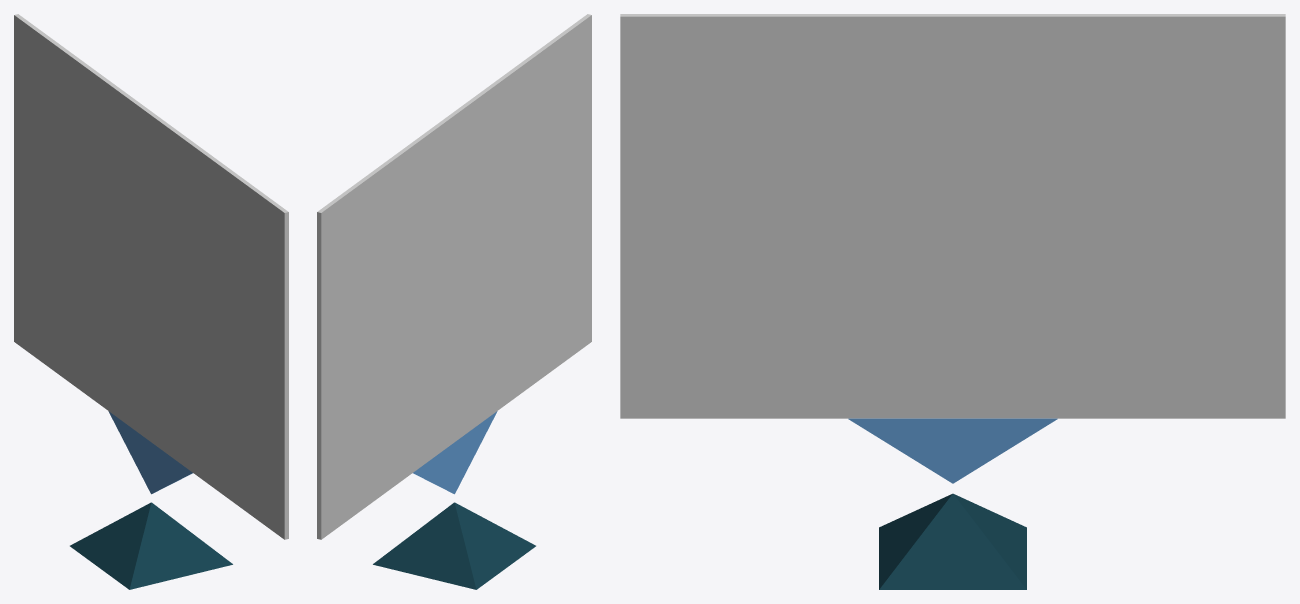
File: monitorAlien.fbx
The picture shows the model from 3 angles, left to right: view 1: azimuth 30°, elevation 25°; view 2: azimuth 150°, elevation 25°; view 3: azimuth 270°, elevation 25°; orthographic projection. The views are drawn at different scales.
Parts seen in each view (by area): view 1: Screen, Projector, Prisma; view 2: Screen, Projector, Prisma; view 3: Screen, Projector, Prisma.
Part boxes in pixels (left/top/right/bottom): Screen: left=14, top=14, right=288, bottom=539; Projector: left=70, top=502, right=232, bottom=589; Prisma: left=108, top=411, right=192, bottom=494; Screen: left=317, top=14, right=591, bottom=539; Projector: left=373, top=502, right=535, bottom=589; Prisma: left=413, top=411, right=497, bottom=494; Screen: left=620, top=14, right=1285, bottom=418; Projector: left=879, top=493, right=1026, bottom=589; Prisma: left=848, top=418, right=1057, bottom=483.
Size of the model in its own units: 2 by 9 by 8.11.
